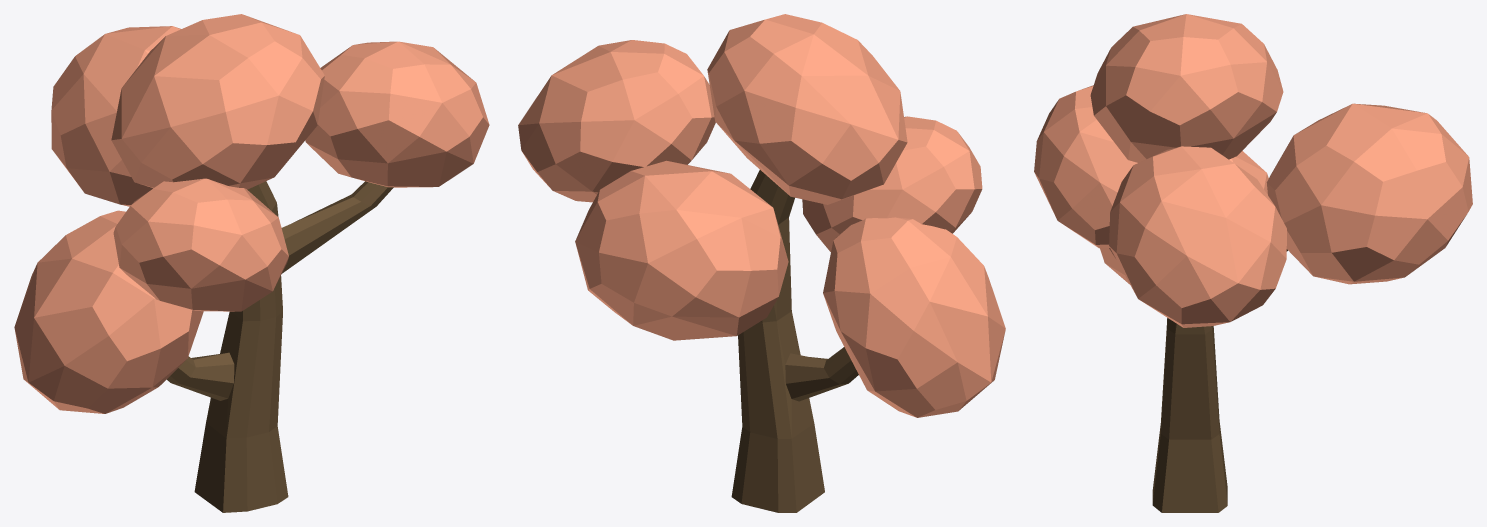
The model's file is Tree_6.fbx.
The picture shows the model from 3 angles, left to right: view 1: azimuth 30°, elevation 25°; view 2: azimuth 150°, elevation 25°; view 3: azimuth 270°, elevation 25°; orthographic projection.
Visible parts, largest first — view 1: Tree_6; view 2: Tree_6; view 3: Tree_6.
Part boxes in pixels (left/top/right/bottom): Tree_6: left=14, top=14, right=489, bottom=512; Tree_6: left=518, top=14, right=1005, bottom=512; Tree_6: left=1034, top=14, right=1472, bottom=512.
Bounding box in the file's own units: 170 × 167 × 142.
